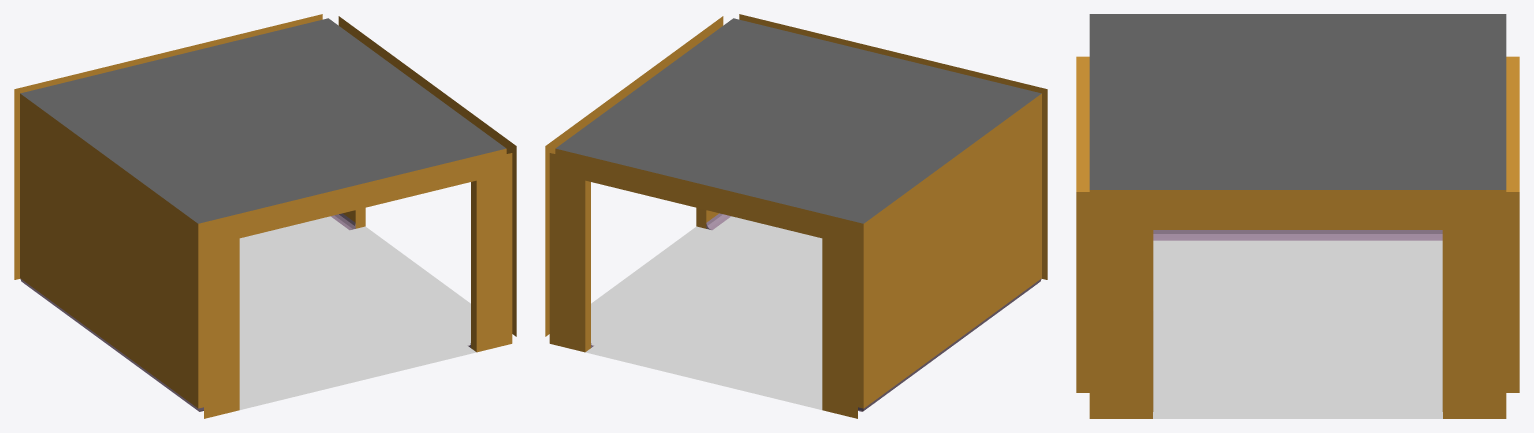
File: simpleThreeway.fbx
3 renders of one model, left to right at view 1: azimuth 30°, elevation 25°; view 2: azimuth 150°, elevation 25°; view 3: azimuth 270°, elevation 25°, orthographic. The views are drawn at different scales.
Visible parts, largest first — view 1: Plane; view 2: Plane; view 3: Plane.
Boxes of the visible parts, x1,y1,x2,y2 form: Plane: (14,14,516,418); Plane: (545,14,1047,418); Plane: (1076,14,1519,418).
Size of the model in its own units: 8.73 by 5 by 9.
